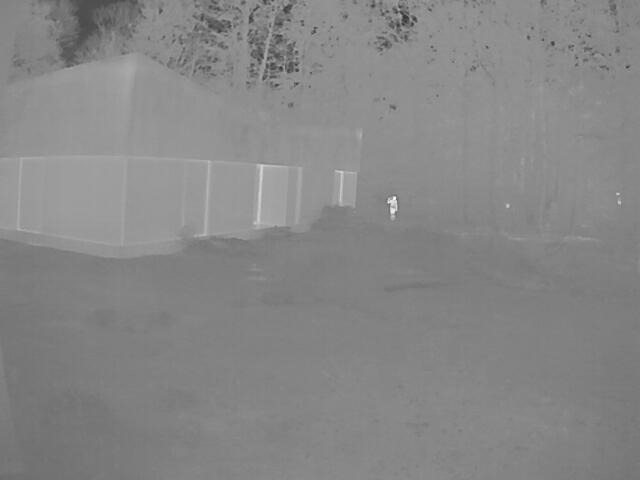person: (384, 195, 397, 219)
